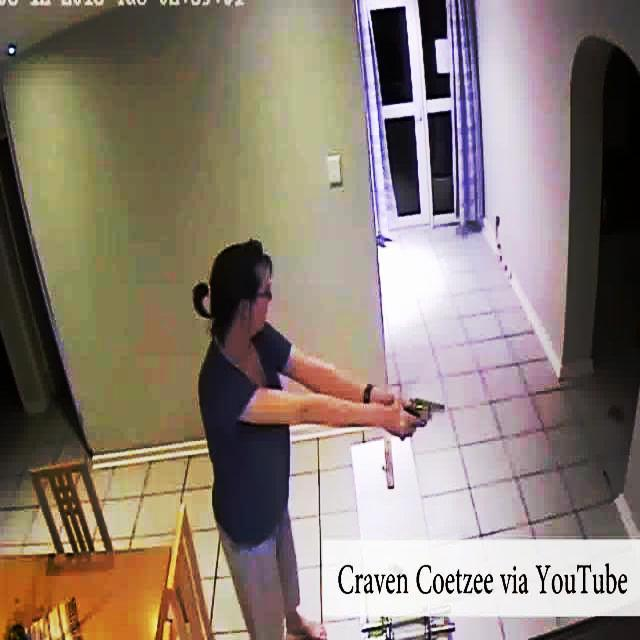Gun: (394, 377, 445, 442)
